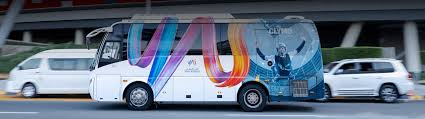bus: (87, 14, 327, 110)
